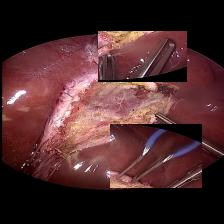Bipolar: (109, 125, 201, 188)
Grasper: (97, 32, 186, 82), (146, 107, 224, 161)
